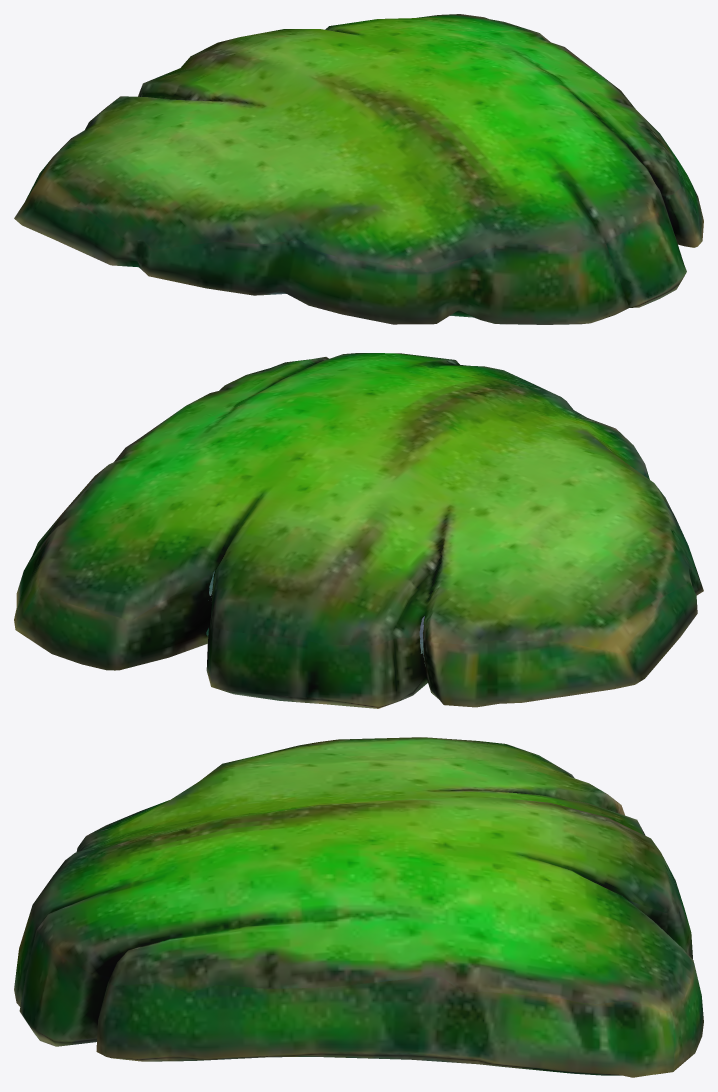
3 views of the same model, one above another, from view 1: azimuth 30°, elevation 25°; view 2: azimuth 150°, elevation 25°; view 3: azimuth 270°, elevation 25° (orthographic). The views are drawn at different scales.
Parts seen in each view (by area): view 1: SM_Kalphite_Drop_01_LOD0; view 2: SM_Kalphite_Drop_01_LOD0; view 3: SM_Kalphite_Drop_01_LOD0.
Boxes of the visible parts, bbox=[...] form: SM_Kalphite_Drop_01_LOD0: bbox=[14, 14, 703, 324]; SM_Kalphite_Drop_01_LOD0: bbox=[14, 353, 703, 708]; SM_Kalphite_Drop_01_LOD0: bbox=[14, 737, 703, 1077].
Size of the model in its own units: 0.452 by 0.1121 by 0.447.
Materials: 1 (1 with a texture image).
